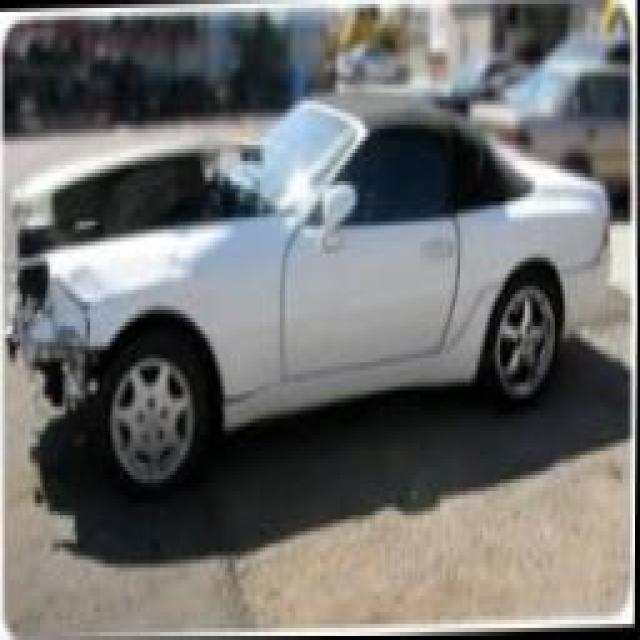Bonnet: (12, 137, 280, 251)
Bumper: (6, 287, 98, 433)
Light: (11, 264, 47, 339)
